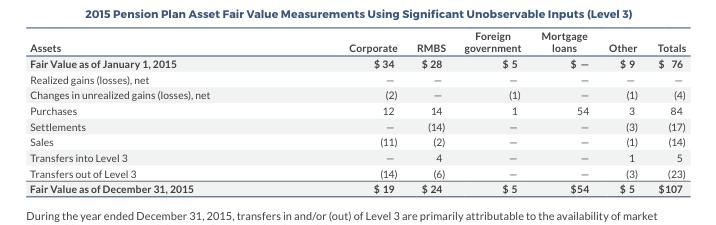table: (29, 28, 685, 194)
table column: (29, 28, 278, 194), (278, 28, 406, 194), (454, 28, 530, 194), (530, 28, 598, 194), (406, 28, 454, 194), (598, 28, 646, 194), (646, 28, 685, 194)
table column header: (29, 28, 685, 55)
table row: (29, 28, 685, 55), (29, 70, 685, 86), (29, 86, 685, 102), (29, 117, 685, 133), (29, 133, 685, 149), (29, 164, 685, 180), (29, 55, 685, 70), (29, 102, 685, 117), (29, 149, 685, 164), (29, 180, 685, 194)
